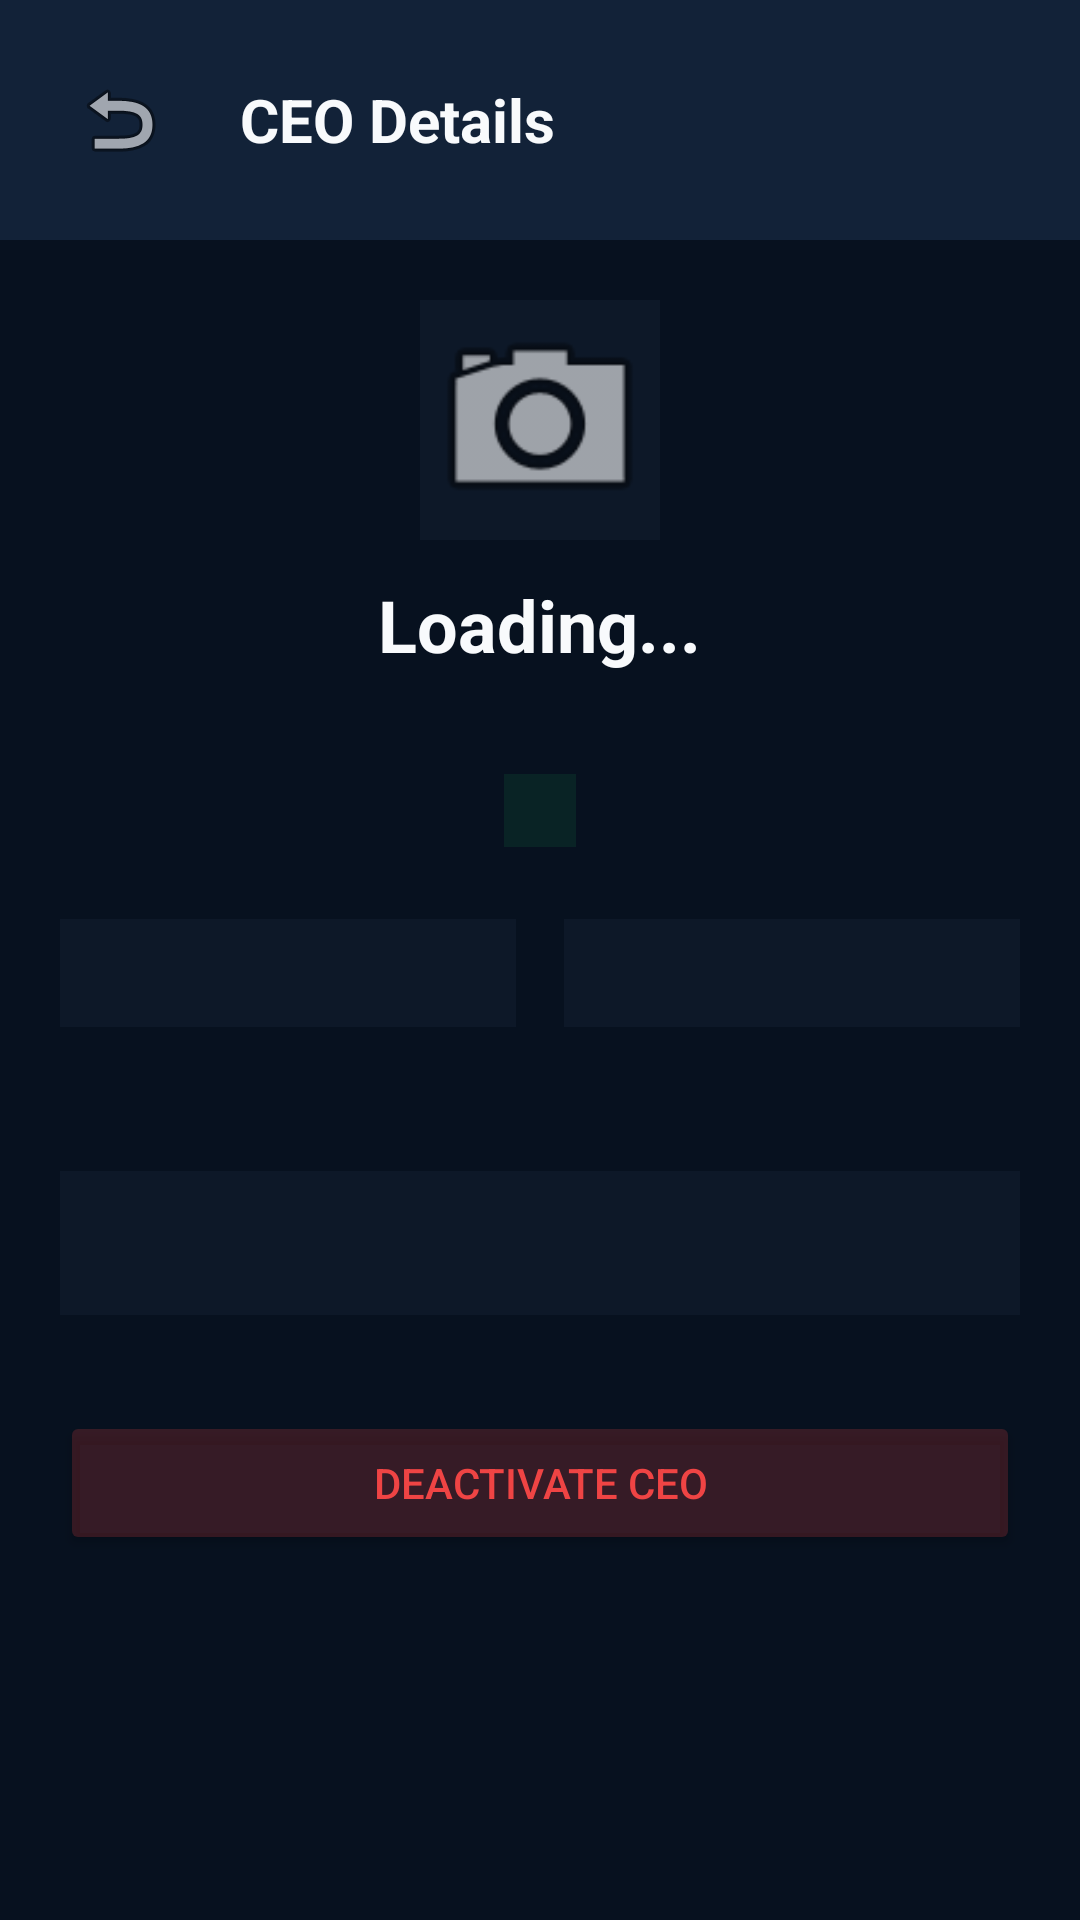

Where icons sit on this 1080x1920 app screen, as [left=x1, top=y1, right=x2, bottom=y2]:
camera: [left=454, top=349, right=626, bottom=483]
revert: [left=88, top=91, right=154, bottom=150]
